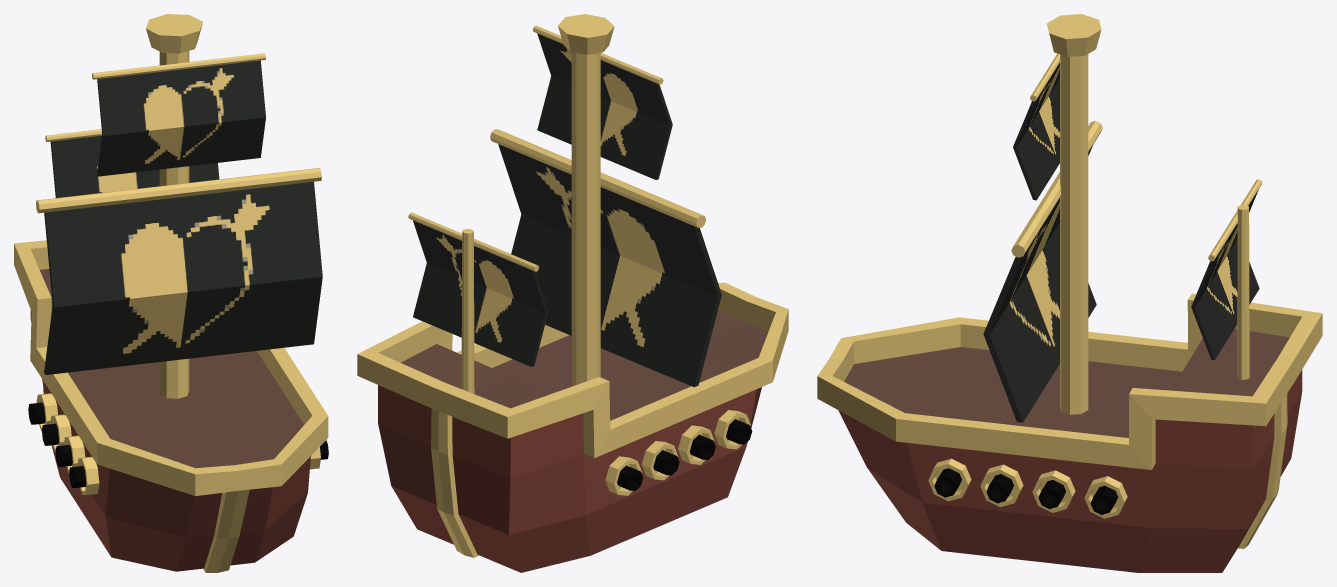
File: pirate_ship.fbx
3 renders of one model, left to right at view 1: azimuth 30°, elevation 25°; view 2: azimuth 150°, elevation 25°; view 3: azimuth 270°, elevation 25°, orthographic. The views are drawn at different scales.
Visible parts, largest first — view 1: PirateShip; view 2: PirateShip; view 3: PirateShip.
Boxes of the visible parts, left/top/right/bottom form: PirateShip: left=14, top=14, right=328, bottom=572; PirateShip: left=357, top=14, right=788, bottom=572; PirateShip: left=817, top=14, right=1322, bottom=572.
Bounding box in the file's own units: 348 × 589 × 541.
6 materials, 1 textured.
